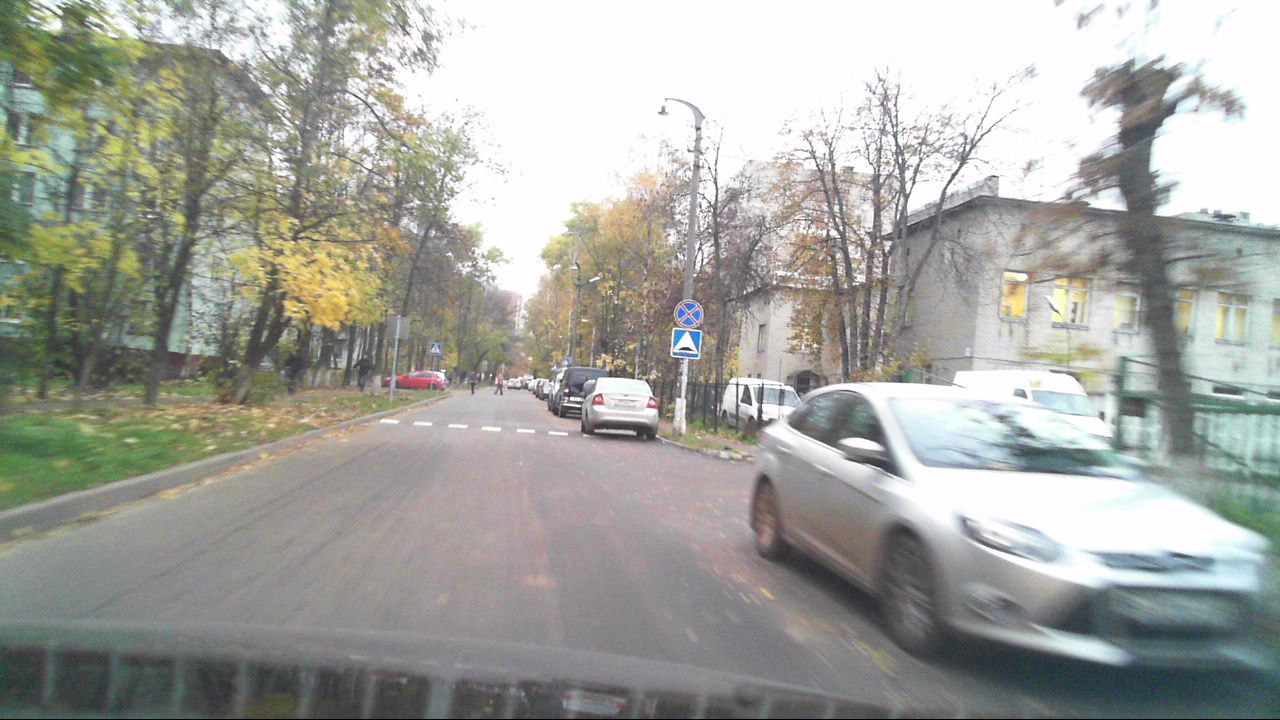No Parking: (673, 299, 702, 328)
